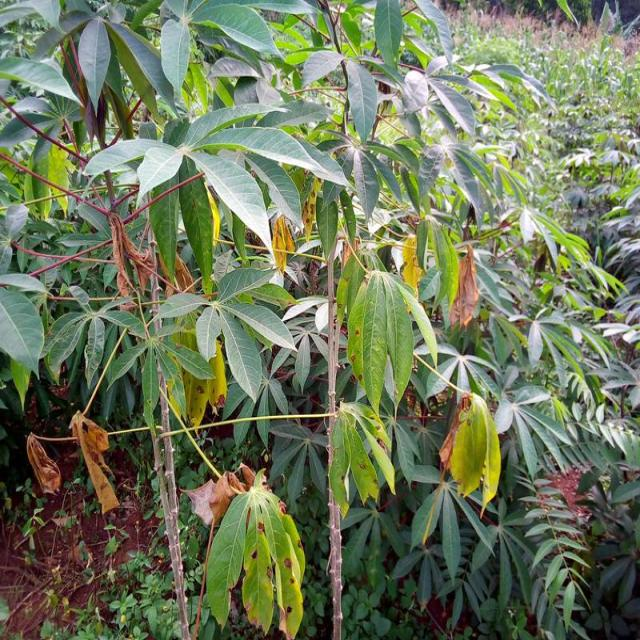cassava leaf: (204, 465, 305, 637), (447, 390, 502, 518)
